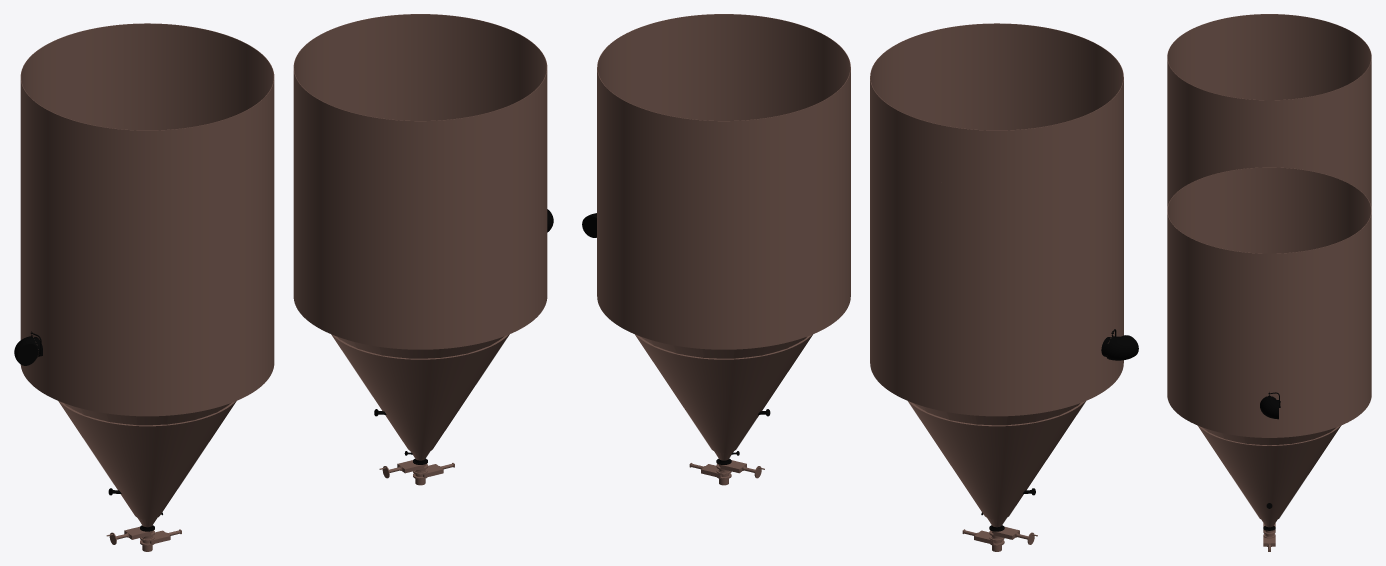
File: GCC-AAV-13220-30.nwd(189).fbx
The picture shows the model from 3 angles, left to right: view 1: azimuth 30°, elevation 25°; view 2: azimuth 150°, elevation 25°; view 3: azimuth 270°, elevation 25°; orthographic projection. The views are drawn at different scales.
Parts seen in each view (by area): view 1: CYLINDER 6 of EQUIPMENT /713-S-301C, CYLINDER 7 of EQUIPMENT /713-S-302C, CYLINDER 8 of EQUIPMENT /713-S-302C, CYLINDER 7 of EQUIPMENT /713-S-301C, CYLINDER 10 of EQUIPMENT /713-S-302C, CYLINDER 9 of EQUIPMENT /713-S-302C, CYLINDER 9 of EQUIPMENT /713-S-301C, CYLINDER 8 of EQUIPMENT /713-S-301C, CYLINDER 10 of EQUIPMENT /713-S-301C, CONE 2 of EQUIPMENT /713-S-302C, CONE 2 of EQUIPMENT /713-S-301C, CONE 1 of EQUIPMENT /713-S-302C (+2 smaller); view 2: CYLINDER 6 of EQUIPMENT /713-S-301C, CYLINDER 7 of EQUIPMENT /713-S-302C, CYLINDER 7 of EQUIPMENT /713-S-301C, CYLINDER 8 of EQUIPMENT /713-S-302C, CYLINDER 10 of EQUIPMENT /713-S-302C, CYLINDER 9 of EQUIPMENT /713-S-302C, CYLINDER 9 of EQUIPMENT /713-S-301C, CYLINDER 8 of EQUIPMENT /713-S-301C, CYLINDER 10 of EQUIPMENT /713-S-301C, CONE 2 of EQUIPMENT /713-S-301C, CONE 2 of EQUIPMENT /713-S-302C, CONE 1 of EQUIPMENT /713-S-302C (+2 smaller); view 3: CYLINDER 7 of EQUIPMENT /713-S-302C, CYLINDER 6 of EQUIPMENT /713-S-301C, CYLINDER 8 of EQUIPMENT /713-S-302C, CYLINDER 7 of EQUIPMENT /713-S-301C, CYLINDER 9 of EQUIPMENT /713-S-302C, CYLINDER 10 of EQUIPMENT /713-S-302C, CONE 2 of EQUIPMENT /713-S-302C, CYLINDER 8 of EQUIPMENT /713-S-301C, CONE 1 of EQUIPMENT /713-S-302C, /713-S-302C-N09.
Boxes of the visible parts, x1,y1,x2,y2 form: CYLINDER 6 of EQUIPMENT /713-S-301C: (20, 23, 274, 187); CYLINDER 7 of EQUIPMENT /713-S-302C: (293, 14, 547, 178); CYLINDER 8 of EQUIPMENT /713-S-302C: (293, 71, 547, 235); CYLINDER 7 of EQUIPMENT /713-S-301C: (20, 81, 274, 244); CYLINDER 10 of EQUIPMENT /713-S-302C: (293, 242, 547, 349); CYLINDER 9 of EQUIPMENT /713-S-302C: (293, 185, 547, 292); CYLINDER 9 of EQUIPMENT /713-S-301C: (20, 251, 274, 359); CYLINDER 8 of EQUIPMENT /713-S-301C: (20, 194, 274, 301); CYLINDER 10 of EQUIPMENT /713-S-301C: (20, 308, 274, 416); CONE 2 of EQUIPMENT /713-S-302C: (331, 334, 509, 452); CONE 2 of EQUIPMENT /713-S-301C: (58, 401, 236, 519); CONE 1 of EQUIPMENT /713-S-302C: (337, 336, 503, 460); CYLINDER 6 of EQUIPMENT /713-S-301C: (870, 23, 1123, 187); CYLINDER 7 of EQUIPMENT /713-S-302C: (597, 14, 850, 178); CYLINDER 7 of EQUIPMENT /713-S-301C: (870, 81, 1123, 244); CYLINDER 8 of EQUIPMENT /713-S-302C: (597, 71, 850, 235); CYLINDER 10 of EQUIPMENT /713-S-302C: (597, 240, 850, 349); CYLINDER 9 of EQUIPMENT /713-S-302C: (597, 182, 850, 292); CYLINDER 9 of EQUIPMENT /713-S-301C: (870, 249, 1123, 359); CYLINDER 8 of EQUIPMENT /713-S-301C: (870, 192, 1123, 301); CYLINDER 10 of EQUIPMENT /713-S-301C: (870, 306, 1123, 416); CONE 2 of EQUIPMENT /713-S-301C: (908, 401, 1085, 519); CONE 2 of EQUIPMENT /713-S-302C: (635, 334, 812, 452); CONE 1 of EQUIPMENT /713-S-302C: (640, 336, 806, 460); CYLINDER 7 of EQUIPMENT /713-S-302C: (1167, 167, 1371, 299); CYLINDER 6 of EQUIPMENT /713-S-301C: (1167, 14, 1371, 146); CYLINDER 8 of EQUIPMENT /713-S-302C: (1167, 213, 1371, 345); CYLINDER 7 of EQUIPMENT /713-S-301C: (1167, 60, 1371, 179); CYLINDER 9 of EQUIPMENT /713-S-302C: (1167, 305, 1371, 391); CYLINDER 10 of EQUIPMENT /713-S-302C: (1167, 351, 1371, 437); CONE 2 of EQUIPMENT /713-S-302C: (1197, 425, 1341, 521); CYLINDER 8 of EQUIPMENT /713-S-301C: (1167, 152, 1371, 202); CONE 1 of EQUIPMENT /713-S-302C: (1202, 427, 1336, 527); /713-S-302C-N09: (1260, 392, 1280, 419).
Bounding box in the file's own units: 786 × 652 × 317.
